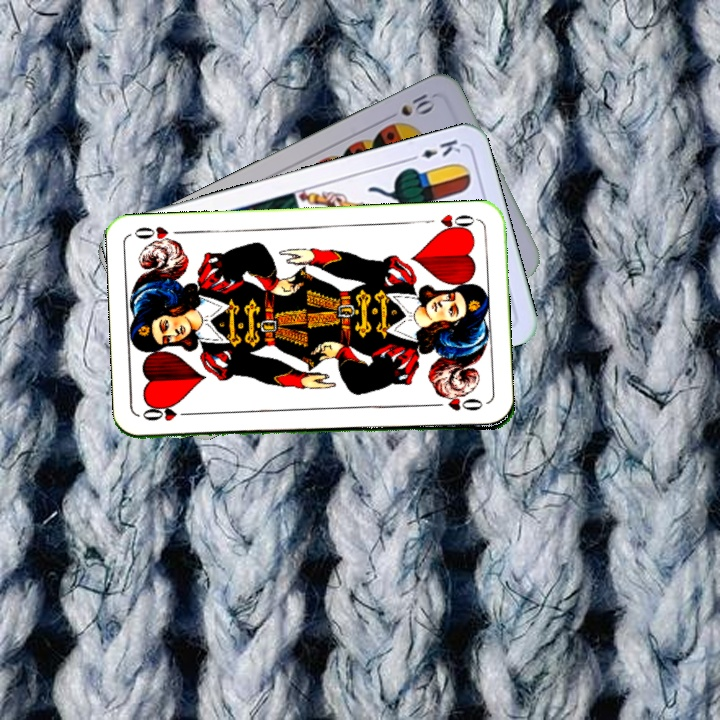EK: (404, 135, 464, 164)
HO: (421, 210, 480, 236), (138, 406, 197, 424)
S10: (381, 89, 438, 123)
